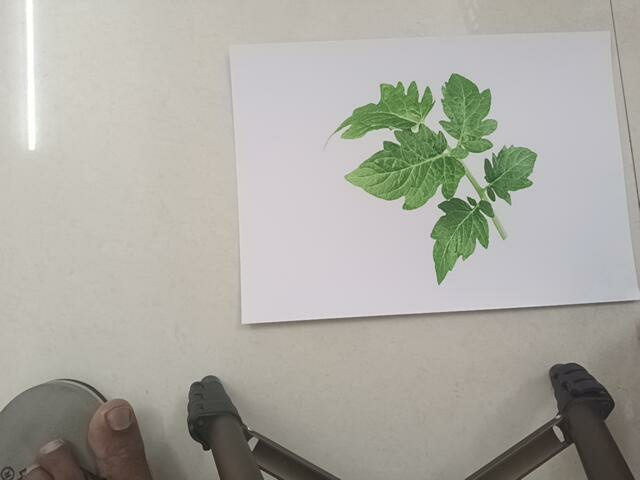Tomamto_Leaf_Healthy: (317, 74, 552, 272)
